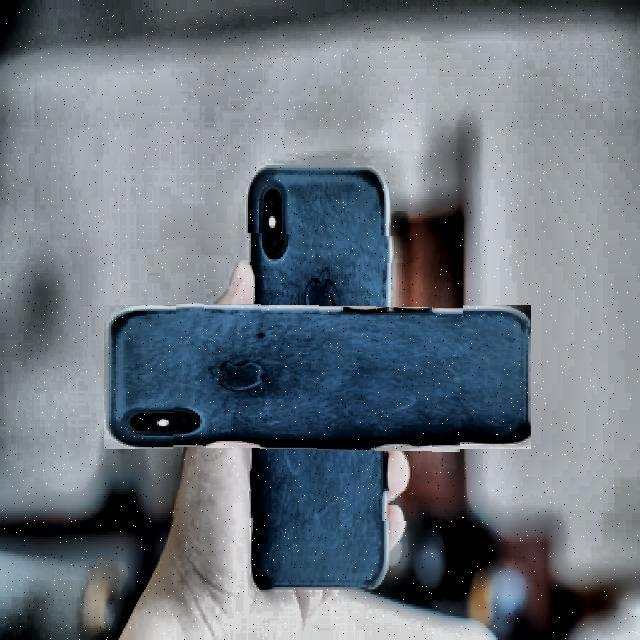Phone: (173, 233, 462, 520)
